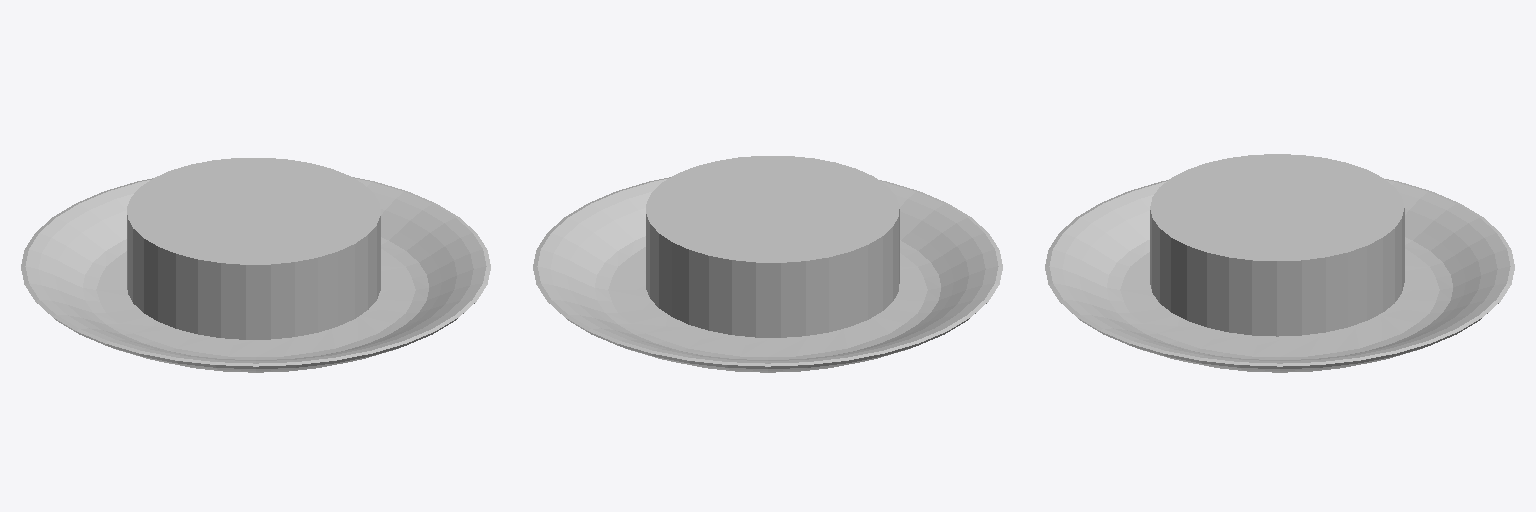
File: BOLU KUKUS KEMOJO.obj
The picture shows the model from 3 angles: view 1: azimuth 30°, elevation 25°; view 2: azimuth 150°, elevation 25°; view 3: azimuth 270°, elevation 25°; orthographic projection.
Visible parts, largest first — view 1: Cylinder.003, Cylinder; view 2: Cylinder.003, Cylinder; view 3: Cylinder.003, Cylinder.
Boxes of the visible parts, x1=… form: Cylinder.003: x1=127, y1=158, x2=380, y2=339; Cylinder: x1=21, y1=177, x2=490, y2=372; Cylinder.003: x1=646, y1=156, x2=899, y2=337; Cylinder: x1=533, y1=177, x2=1002, y2=372; Cylinder.003: x1=1150, y1=154, x2=1404, y2=336; Cylinder: x1=1045, y1=179, x2=1514, y2=372.
Size of the model in its own units: 2.31 by 0.5045 by 2.31.